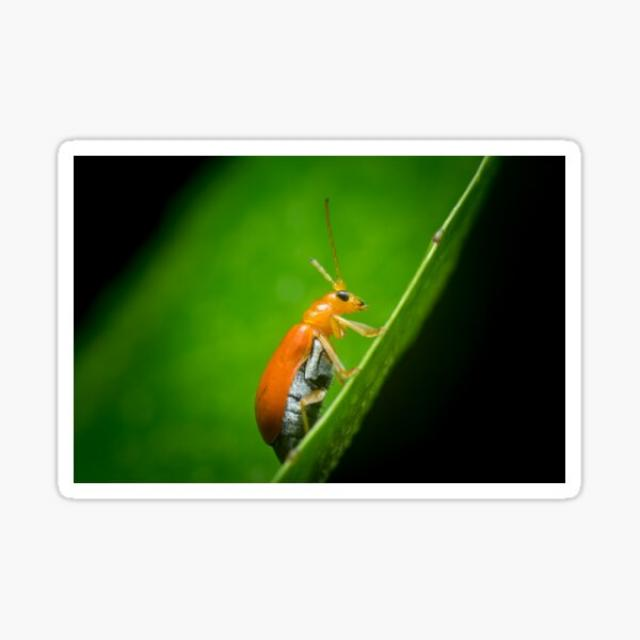Pumpkin Beetle: (247, 181, 392, 468)
